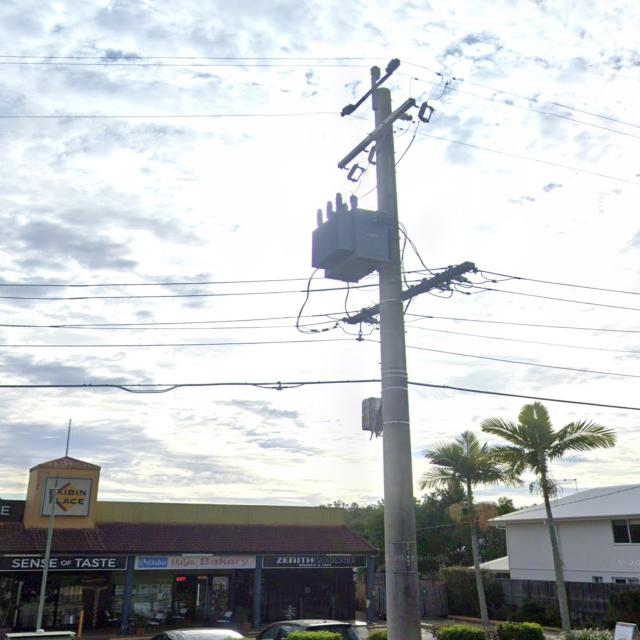HV-transmission: (338, 57, 436, 182)
LV link: (448, 272, 520, 284), (435, 280, 494, 294)
concrete-pole: (370, 86, 422, 640)
crossarm: (344, 261, 477, 325), (340, 97, 415, 168), (356, 72, 392, 108)
transformer: (312, 193, 387, 289)
